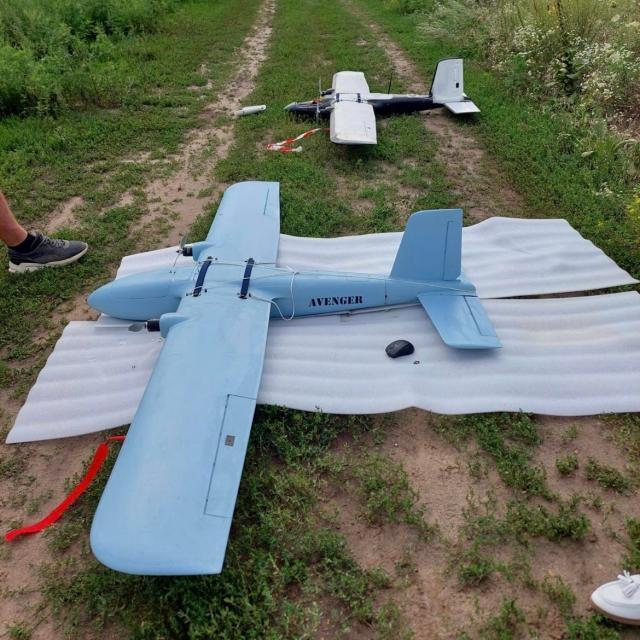iha: (87, 177, 507, 574)
